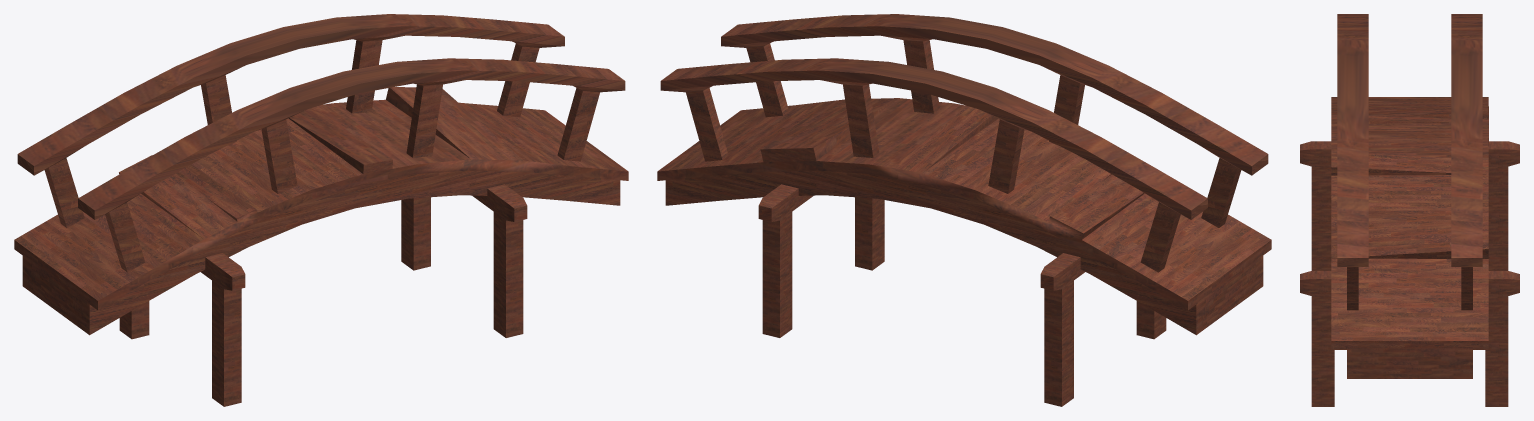
The model's file is bridge.fbx.
3 views of the same model, side by side, from view 1: azimuth 30°, elevation 25°; view 2: azimuth 150°, elevation 25°; view 3: azimuth 270°, elevation 25° (orthographic). The views are drawn at different scales.
Parts seen in each view (by area): view 1: bridge; view 2: bridge; view 3: bridge.
Part boxes in pixels (left/top/right/bottom): bridge: left=14, top=14, right=628, bottom=406; bridge: left=657, top=14, right=1271, bottom=406; bridge: left=1300, top=14, right=1519, bottom=406.
Bounding box in the file's own units: 70.32 × 35.04 × 26.79.
Materials: 1 (1 with a texture image).
